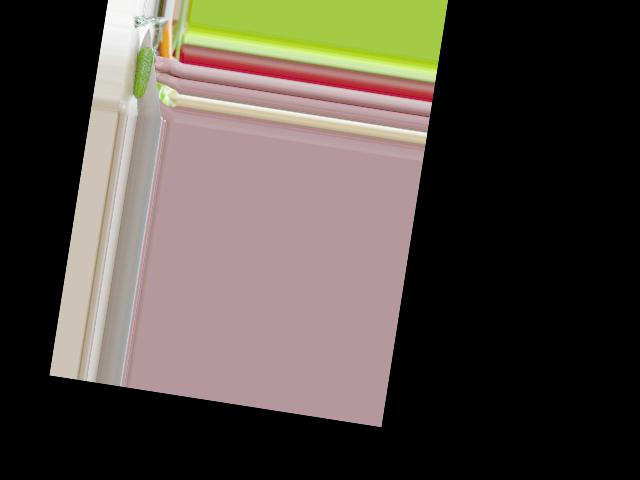cucumber: (130, 45, 154, 99)
